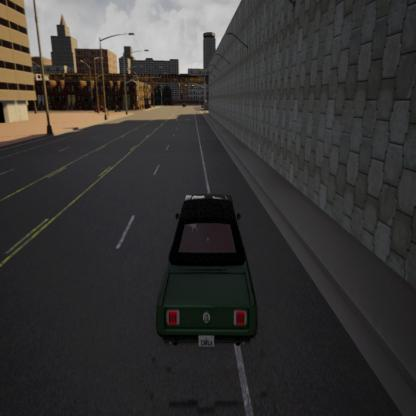Cars: (147, 172, 266, 359)
